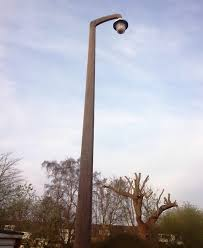light_pole: (69, 15, 108, 245)
